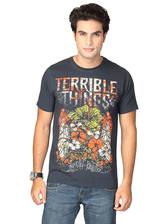clothoes: (33, 55, 142, 193)
watch: (25, 169, 46, 183)
